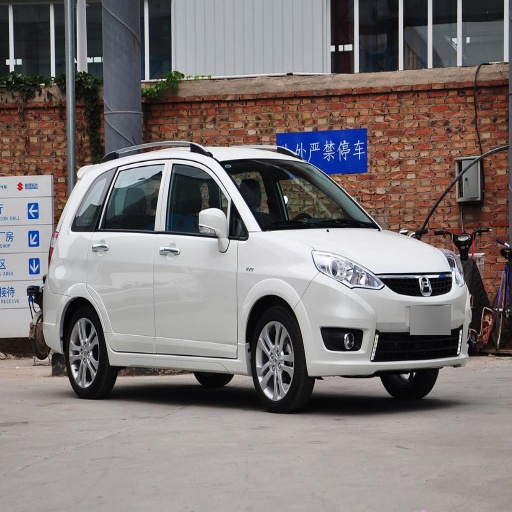front_bumper: (298, 266, 476, 375)
front_right_door: (155, 159, 238, 355)
front_right_light: (312, 250, 378, 288)
